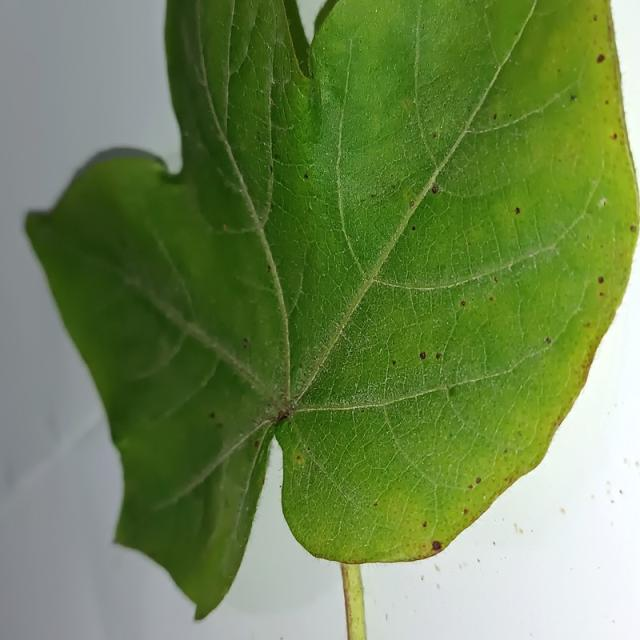Bacterial_Blight: (506, 204, 527, 223), (274, 407, 293, 422), (446, 384, 461, 399), (298, 168, 311, 182), (596, 196, 607, 208), (431, 540, 442, 551), (418, 347, 426, 362), (431, 184, 439, 194), (597, 54, 605, 63), (242, 338, 248, 349), (253, 440, 260, 449), (544, 337, 551, 345), (570, 94, 577, 102), (598, 276, 605, 284), (460, 300, 467, 307), (209, 412, 216, 419), (215, 423, 223, 429), (463, 508, 469, 516), (296, 455, 302, 462), (613, 133, 619, 140), (436, 353, 442, 360), (475, 477, 481, 484), (409, 201, 415, 208), (629, 225, 635, 232), (583, 321, 590, 327), (403, 100, 408, 108), (422, 521, 427, 528), (274, 153, 279, 160), (267, 265, 271, 273), (269, 165, 273, 173), (392, 360, 397, 366), (599, 292, 605, 297), (467, 484, 473, 489), (370, 193, 376, 198), (517, 430, 522, 436), (503, 448, 508, 454), (493, 113, 497, 120), (432, 132, 436, 139), (411, 226, 416, 231), (489, 296, 494, 301), (306, 447, 311, 452), (619, 490, 624, 495), (373, 501, 377, 507), (494, 277, 498, 283), (606, 99, 610, 105), (593, 15, 597, 21)
Cotton: (25, 0, 639, 618)
